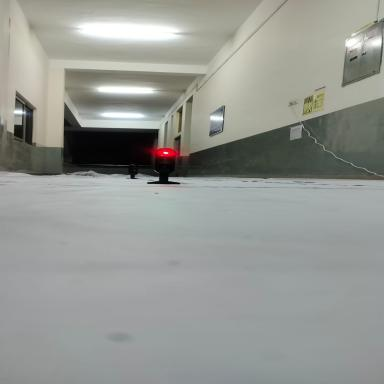traffic red: (136, 128, 204, 186)
